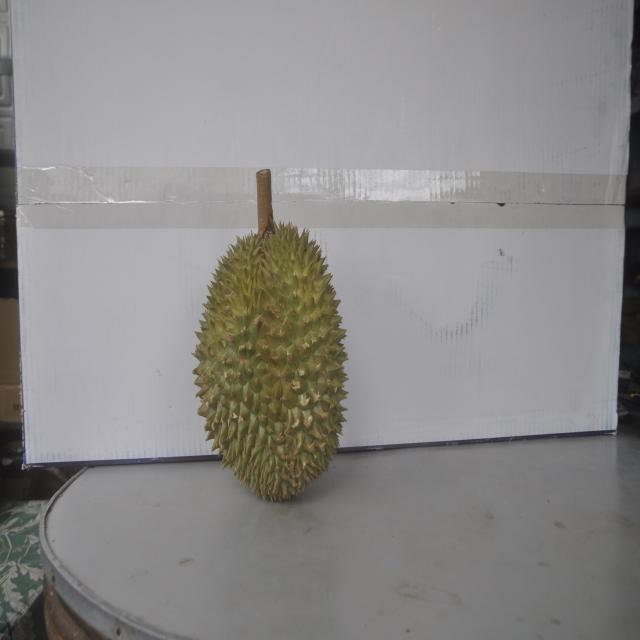mature: (192, 213, 350, 501)
